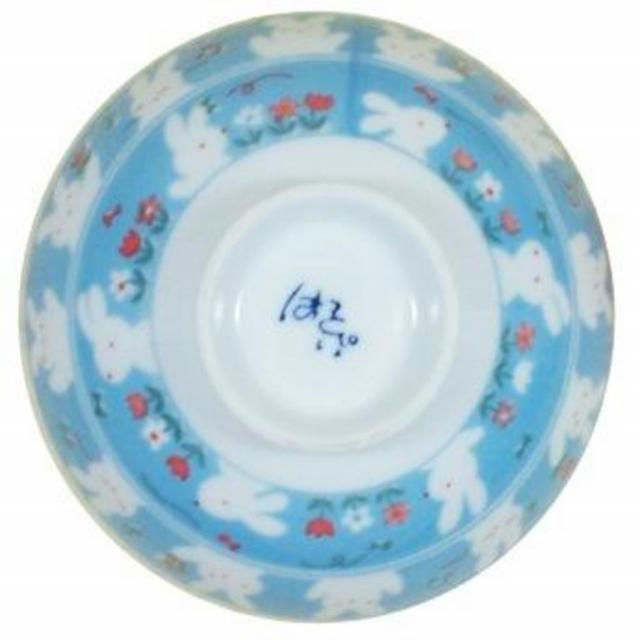ceramic plate: (11, 8, 618, 640)
